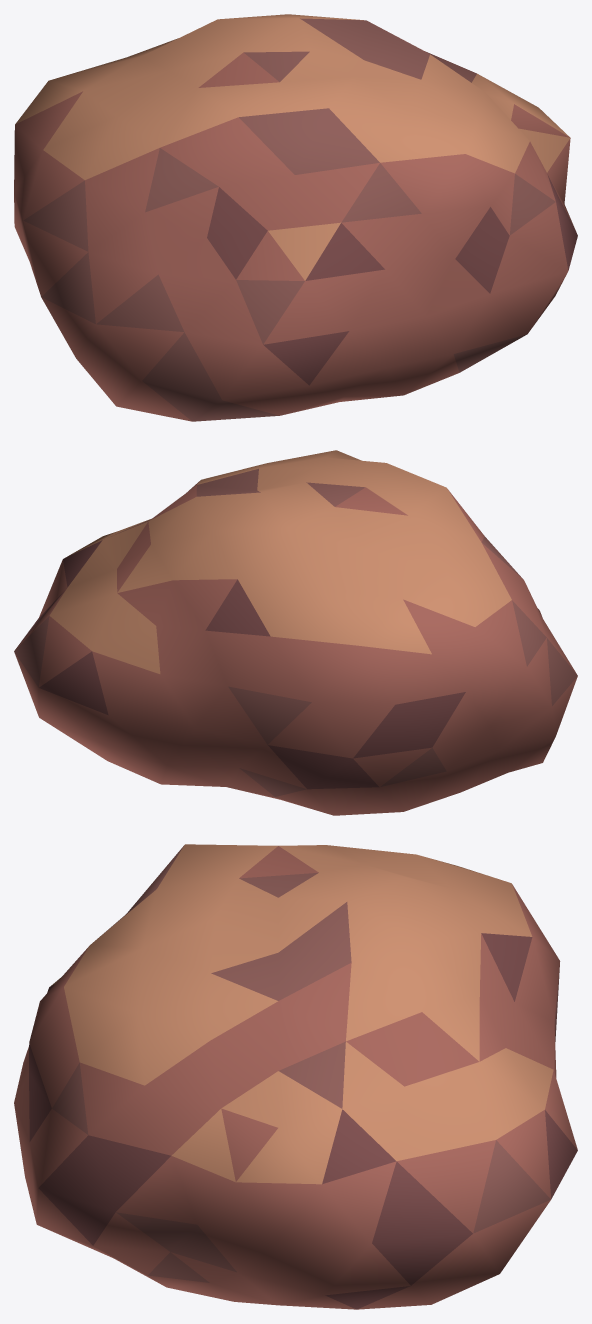
The model's file is rock_6.glb.
3 renders of one model, top to bottom at view 1: azimuth 30°, elevation 25°; view 2: azimuth 150°, elevation 25°; view 3: azimuth 270°, elevation 25°, orthographic. The views are drawn at different scales.
Visible parts, largest first — view 1: rock_6; view 2: rock_6; view 3: rock_6.
Part boxes in pixels (box(x1,y1,x2,y2)): rock_6: box(14, 14, 577, 421); rock_6: box(14, 450, 577, 815); rock_6: box(14, 844, 577, 1309).
Size of the model in its own units: 4.15 by 2.14 by 3.41.
